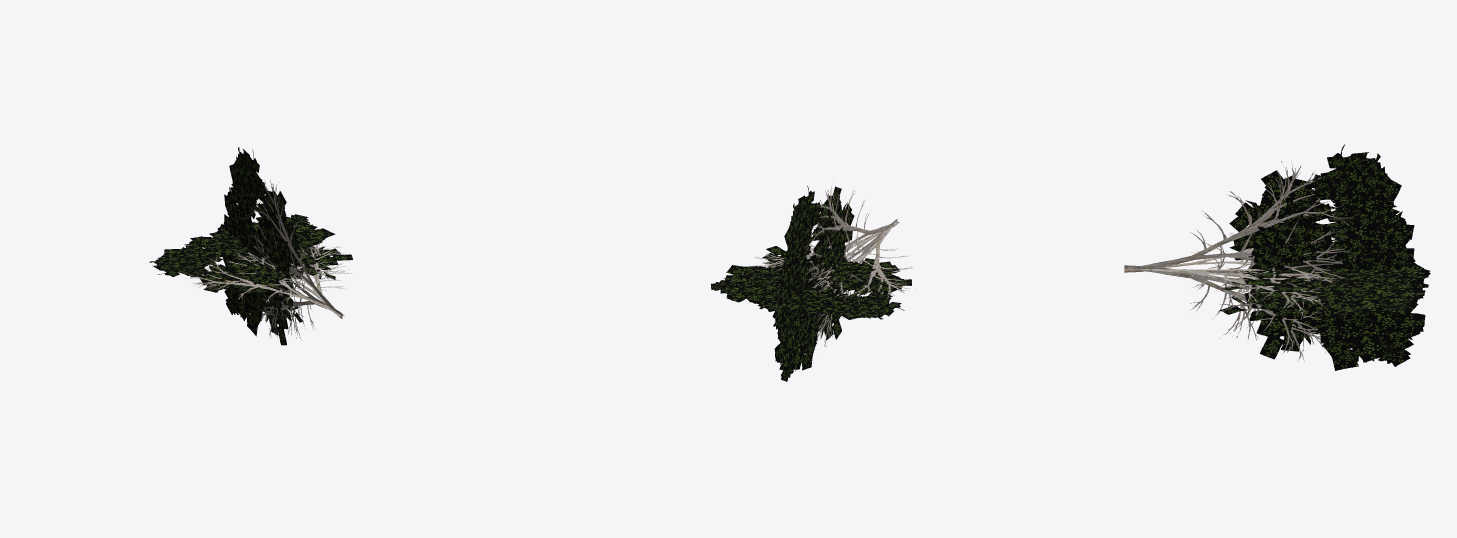
Rendered from tree2_lod2.dae.
3 renders of one model, left to right at view 1: azimuth 30°, elevation 25°; view 2: azimuth 150°, elevation 25°; view 3: azimuth 270°, elevation 25°, orthographic. The views are drawn at different scales.
Parts seen in each view (by area): view 1: tree.004, tree.003; view 2: tree.004, tree.003; view 3: tree.004, tree.003.
Part boxes in pixels (box(x1,y1,x2,y2)): tree.004: box(217, 147, 342, 345); tree.003: box(149, 214, 352, 316); tree.004: box(772, 181, 897, 381); tree.003: box(711, 221, 916, 319); tree.004: box(1124, 144, 1430, 370); tree.003: box(1124, 216, 1430, 316).
Bounding box in the file's own units: 36.93 × 20.9 × 36.93.
